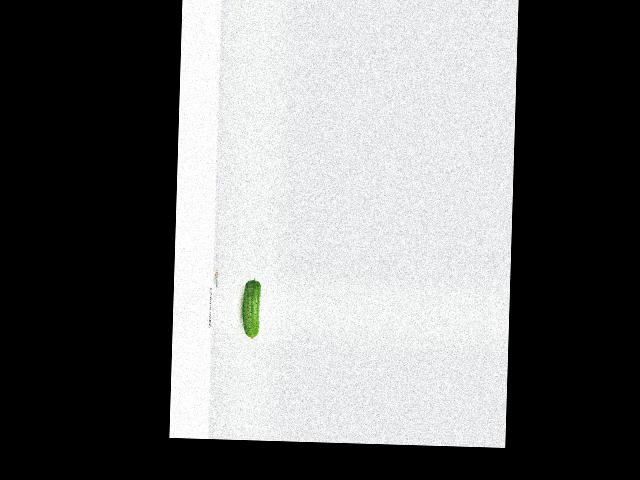cucumber: (241, 277, 261, 339)
